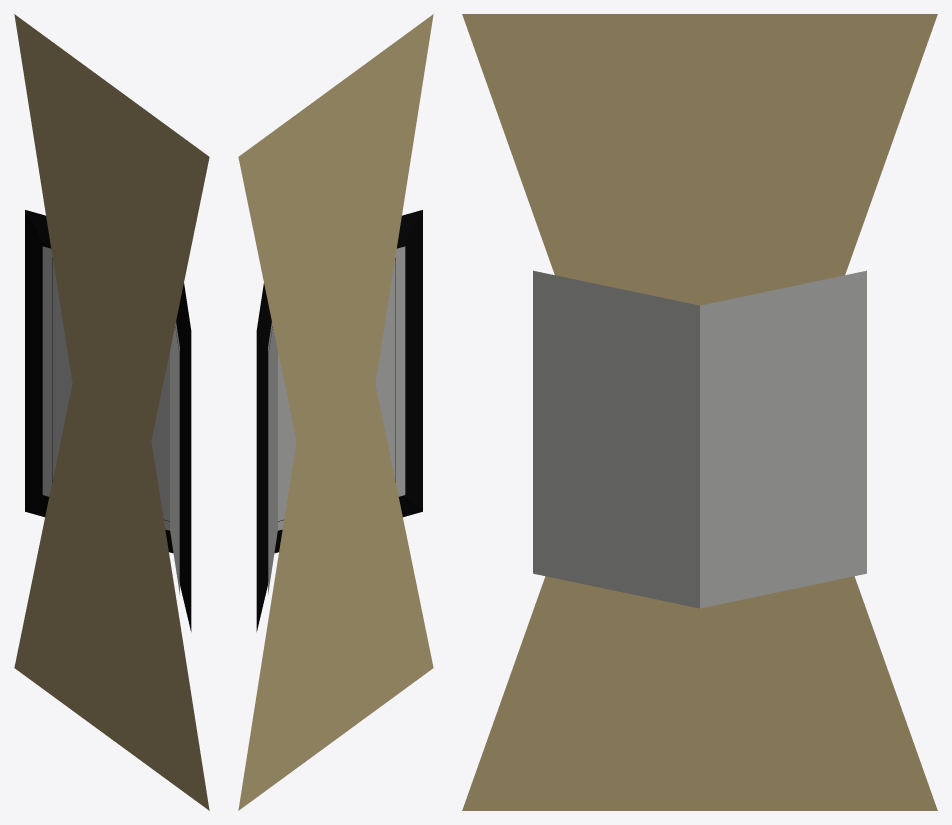
The model's file is tippys_light_fixture_1.fbx.
The picture shows the model from 3 angles, left to right: view 1: azimuth 30°, elevation 25°; view 2: azimuth 150°, elevation 25°; view 3: azimuth 270°, elevation 25°; orthographic projection. The views are drawn at different scales.
Parts seen in each view (by area): view 1: light_fixture; view 2: light_fixture; view 3: light_fixture.
Part boxes in pixels (<box>): light_fixture: <box>14,14,209,810</box>; light_fixture: <box>238,14,433,810</box>; light_fixture: <box>462,14,937,810</box>.
Bounding box in the file's own units: 60.14 × 526 × 285.
